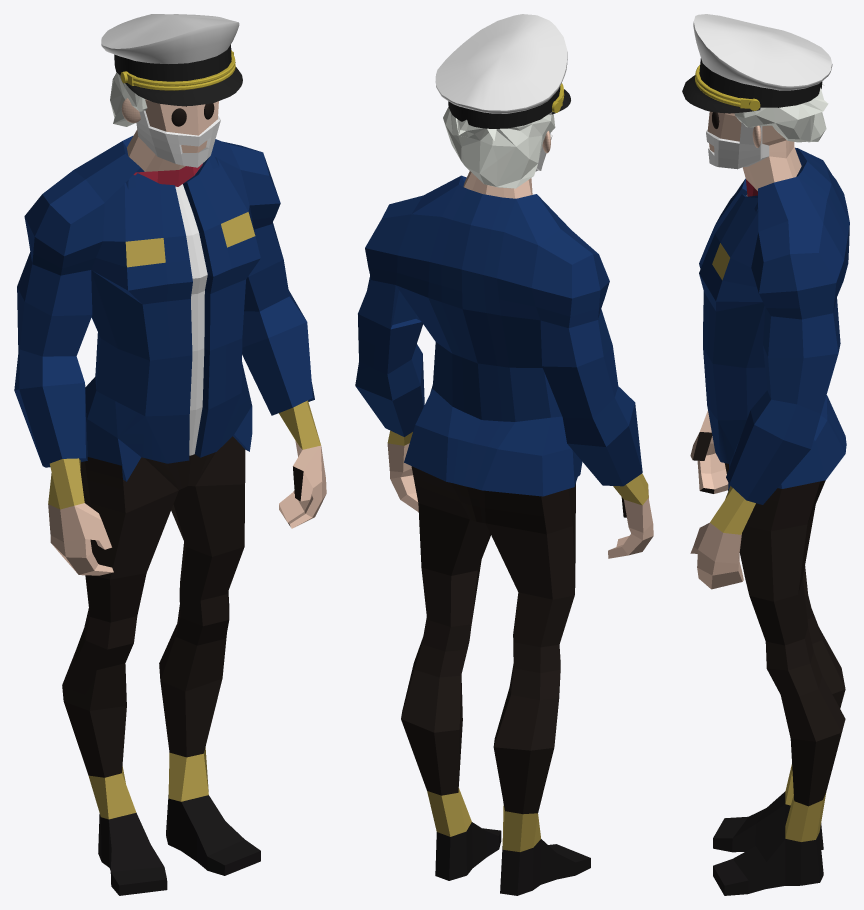
Rendered from captain.fbx.
3 views of the same model, side by side, from view 1: azimuth 30°, elevation 25°; view 2: azimuth 150°, elevation 25°; view 3: azimuth 270°, elevation 25° (orthographic). The views are drawn at different scales.
Parts seen in each view (by area): view 1: Cube.001, Cube.002, Nazi_Hat, Sphere.002; view 2: Cube.001, Cube.002, Nazi_Hat, Sphere.002; view 3: Cube.001, Cube.002, Nazi_Hat, Sphere.002.
Part boxes in pixels (x1,y1,x2,y2): Cube.001: (14, 135, 314, 481); Cube.002: (48, 99, 326, 895); Nazi_Hat: (101, 14, 242, 106); Sphere.002: (110, 72, 147, 126); Cube.001: (355, 175, 642, 496); Cube.002: (387, 133, 653, 895); Nazi_Hat: (435, 14, 570, 128); Sphere.002: (443, 107, 555, 188); Cube.001: (699, 147, 849, 504); Cube.002: (690, 111, 845, 895); Nazi_Hat: (682, 14, 832, 113); Sphere.002: (734, 84, 828, 142).
Size of the model in its own units: 59.88 by 176 by 31.72.
